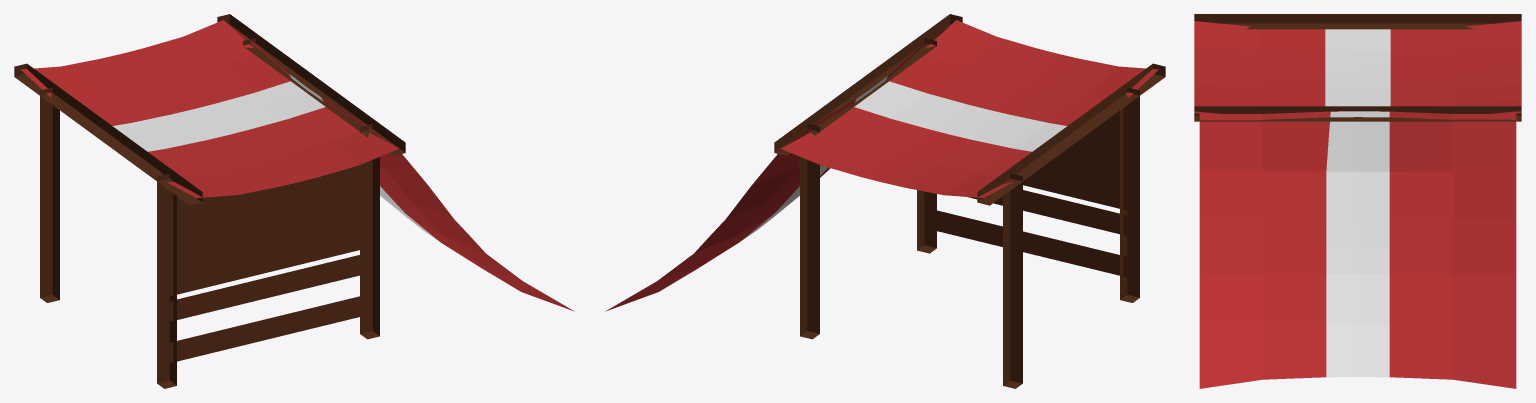
File: AlmacenRosacruz.fbx
3 renders of one model, left to right at view 1: azimuth 30°, elevation 25°; view 2: azimuth 150°, elevation 25°; view 3: azimuth 270°, elevation 25°, orthographic. The views are drawn at different scales.
Visible parts, largest first — view 1: Almacen; view 2: Almacen; view 3: Almacen.
Part boxes in pixels (x1,y1,x2,y2): Almacen: [14, 14, 574, 388]; Almacen: [605, 14, 1165, 388]; Almacen: [1194, 14, 1521, 388].
Bounding box in the file's own units: 383 × 201 × 300.
